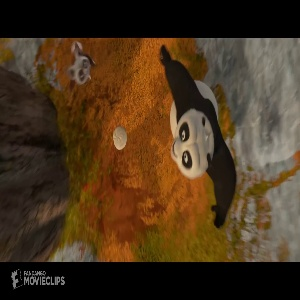po: (153, 42, 240, 234)
shifu: (66, 42, 97, 87)
